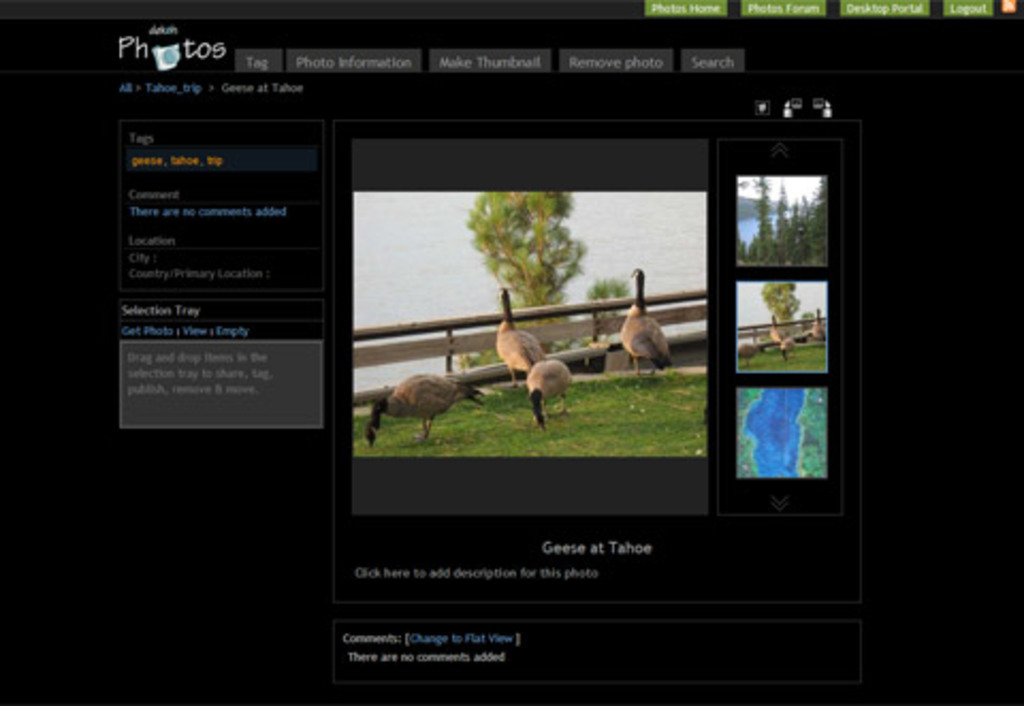Tree: (466, 186, 587, 305)
